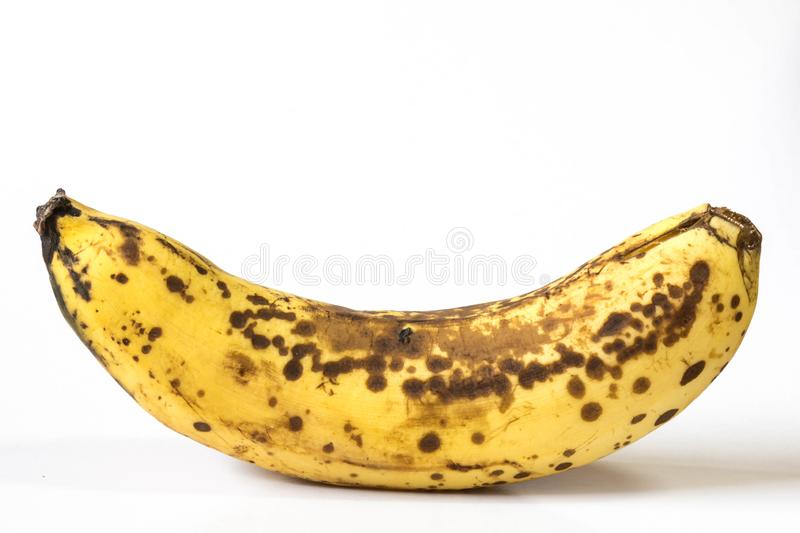rotten_banana: (36, 188, 763, 493)
